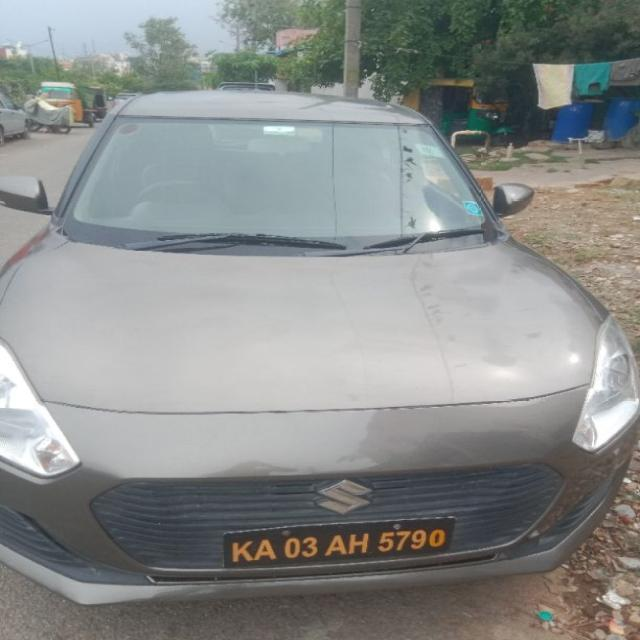license_plate: (221, 515, 456, 569)
